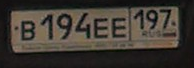character: (56, 11, 74, 41), (75, 12, 93, 41), (157, 8, 176, 33), (39, 13, 56, 40), (111, 17, 128, 39), (94, 17, 110, 40), (20, 20, 37, 41), (132, 7, 146, 32), (147, 7, 160, 31)
